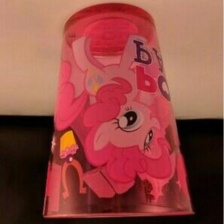glass: (38, 0, 200, 221)
